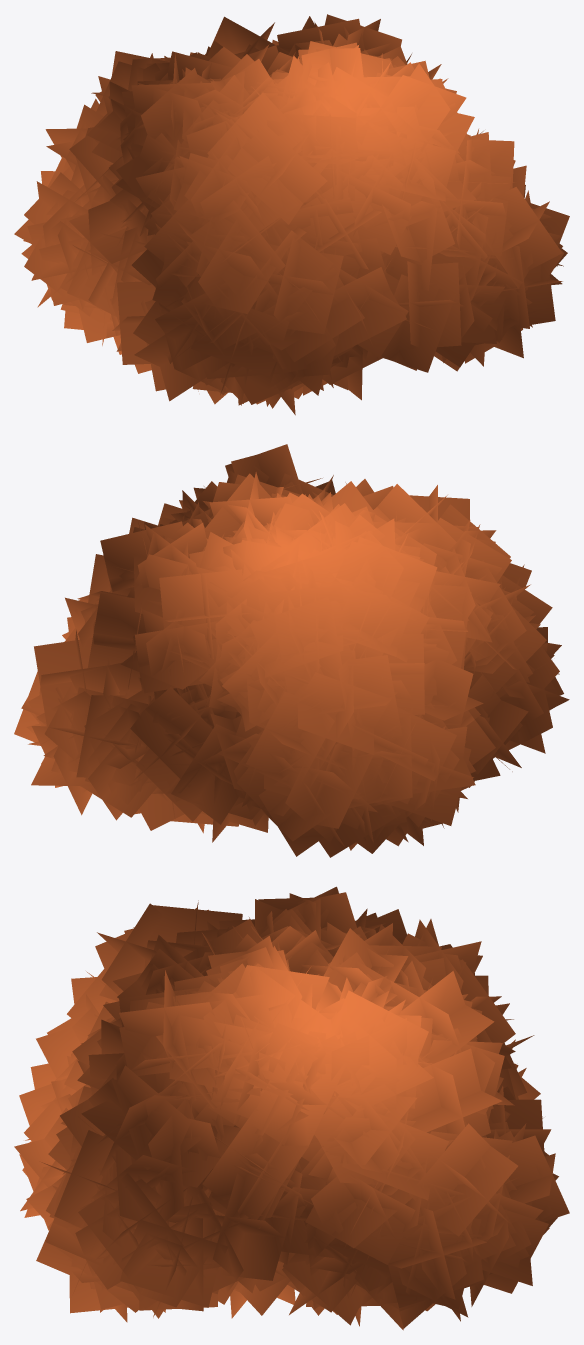
File: SM_Bush_05.fbx
3 views of the same model, one above another, from view 1: azimuth 30°, elevation 25°; view 2: azimuth 150°, elevation 25°; view 3: azimuth 270°, elevation 25° (orthographic). The views are drawn at different scales.
Parts seen in each view (by area): view 1: SM_Bush_05_LOD0; view 2: SM_Bush_05_LOD0; view 3: SM_Bush_05_LOD0.
Part boxes in pixels (<box>): SM_Bush_05_LOD0: <box>14,14,569,415</box>; SM_Bush_05_LOD0: <box>14,444,569,857</box>; SM_Bush_05_LOD0: <box>14,886,569,1330</box>.
Bounding box in the file's own units: 519 × 327 × 506.
